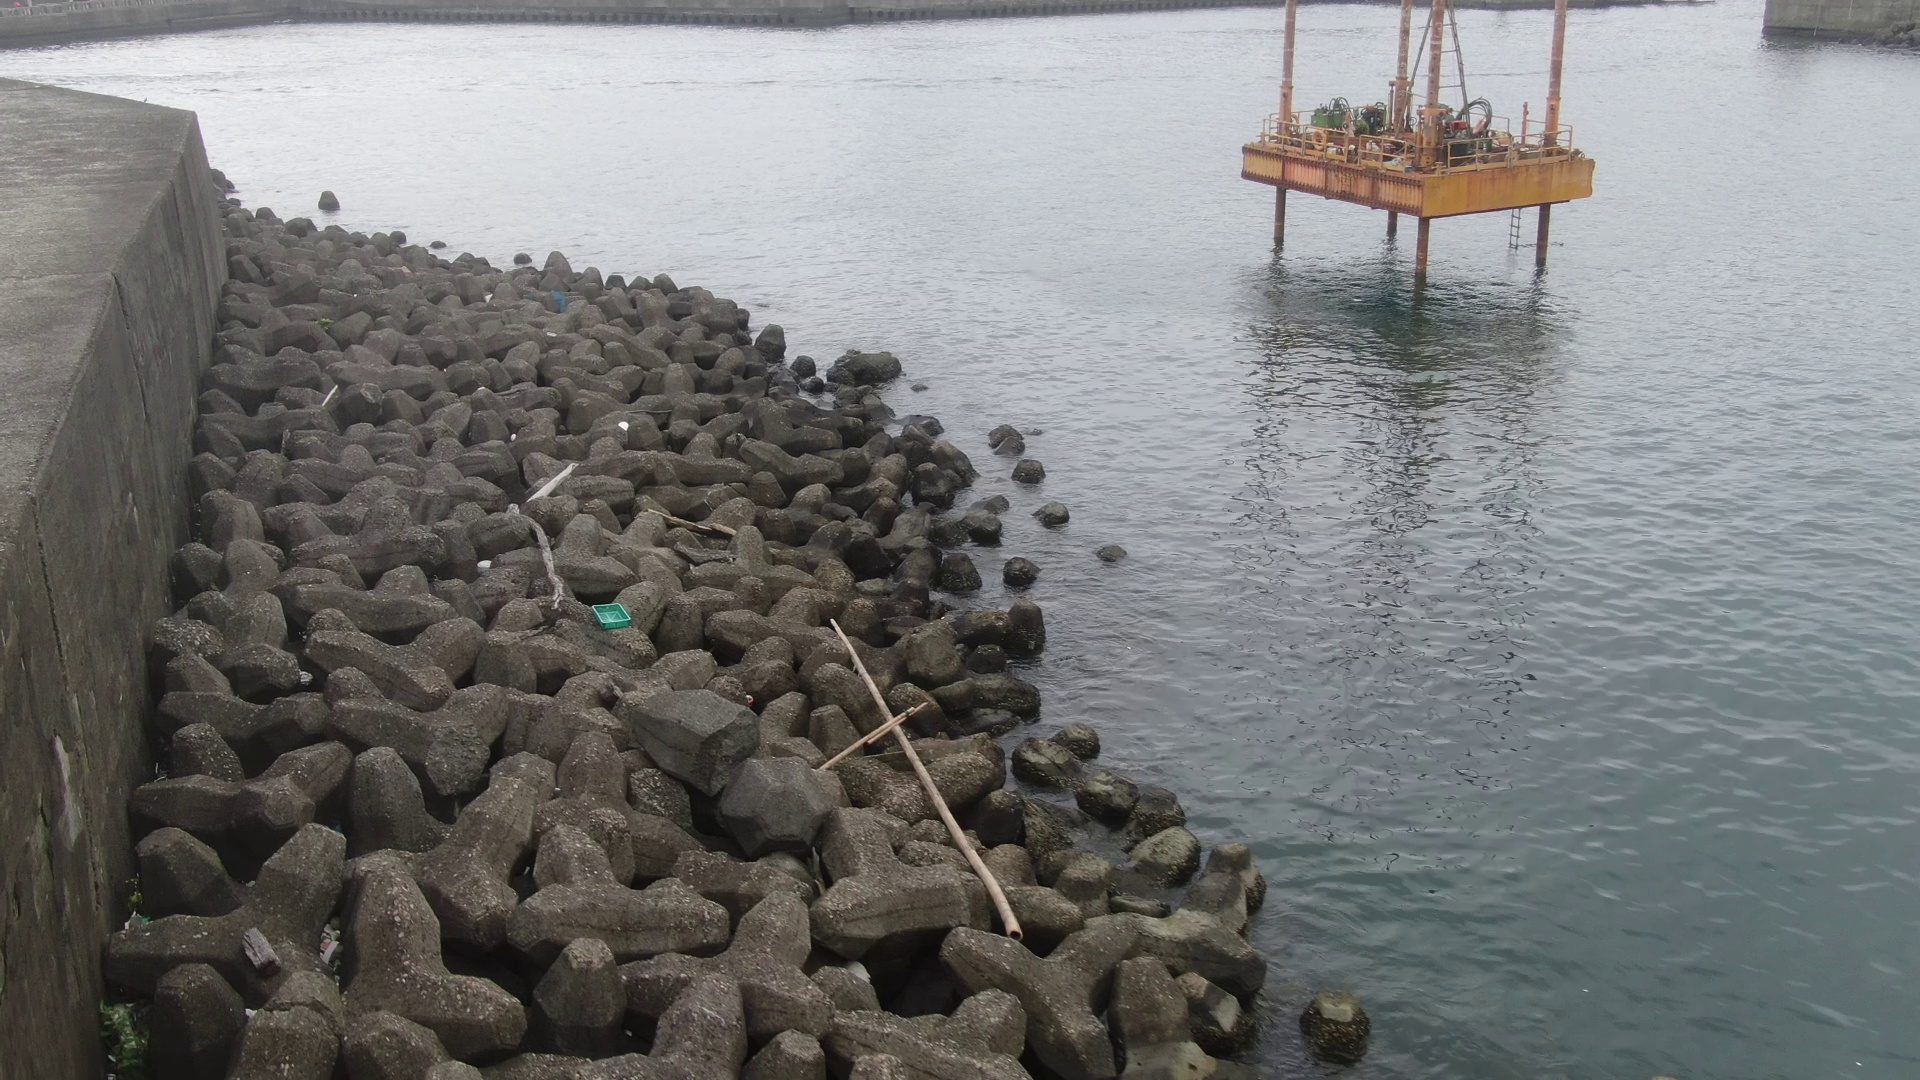garbage: (589, 597, 634, 632)
